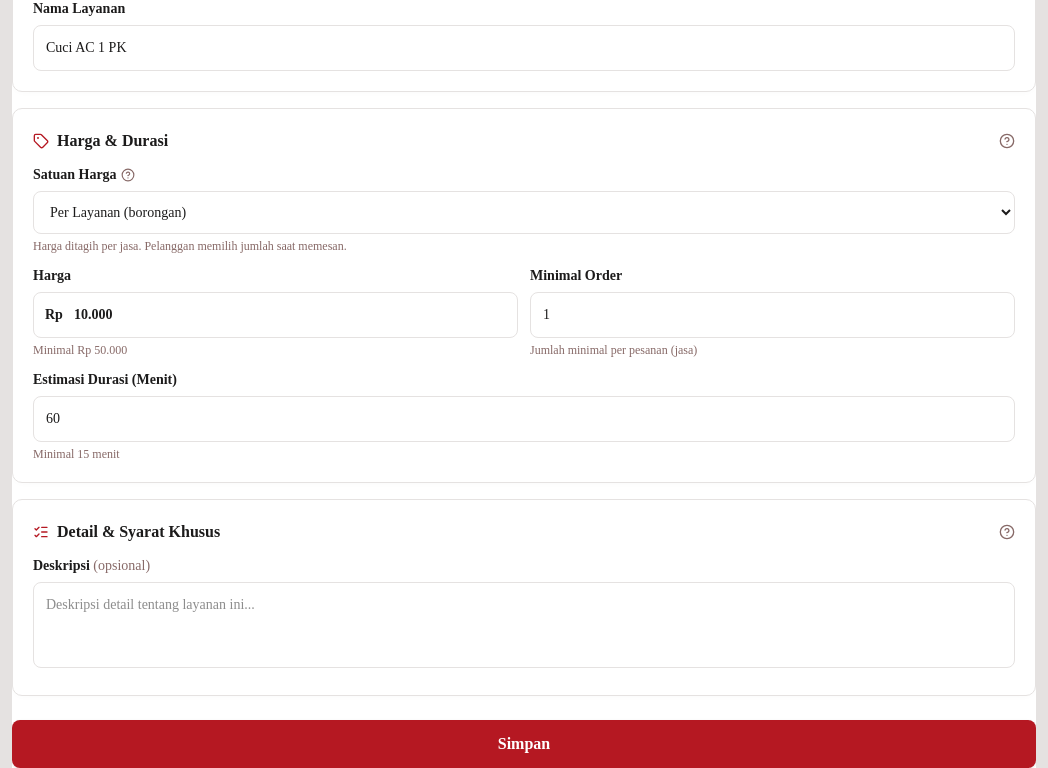
Scenario: ServiceForm . validasi › menolak harga di bawah minimum platform
The width and height of the screenshot is (1048, 768).
(page scrolled)
Click the button "Simpan" at [524, 744], box [12, 720, 1036, 767]
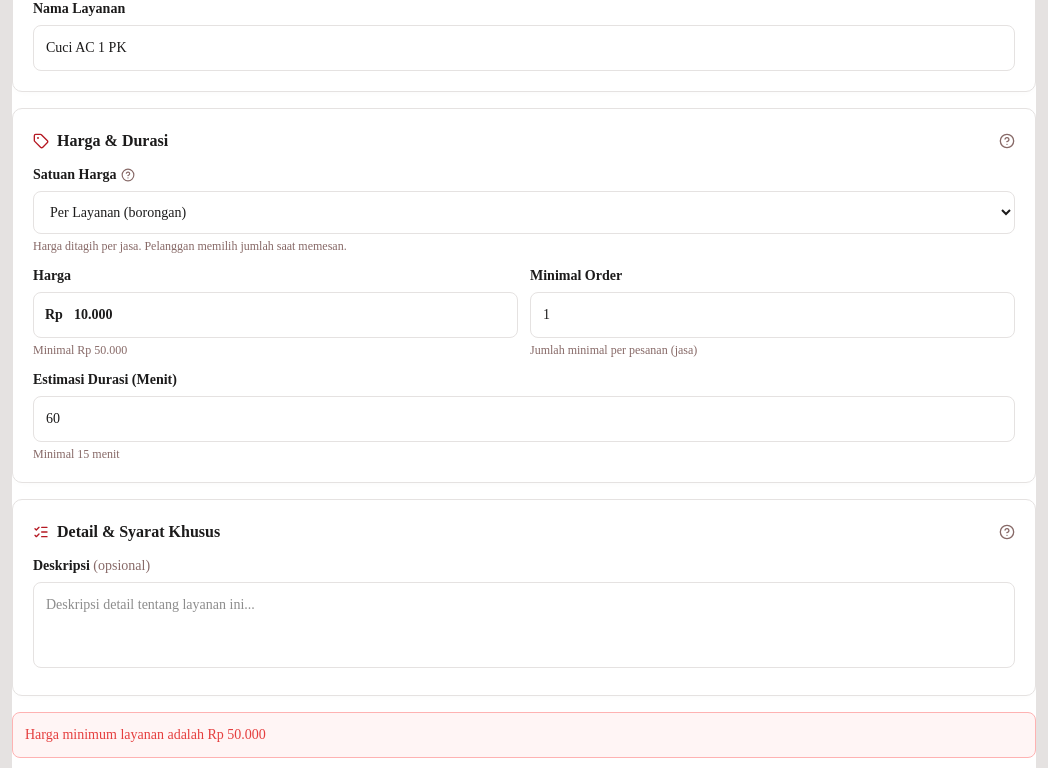
Now the message shows "minimum", box [25, 727, 266, 742]
